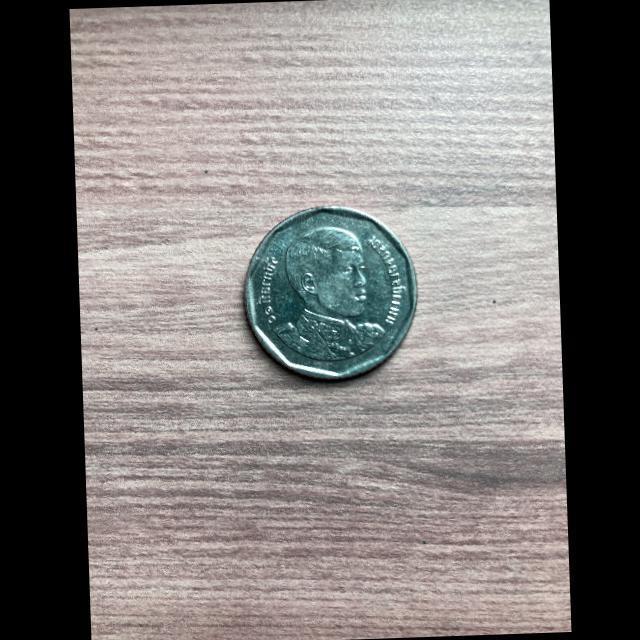5 Bath: (239, 203, 421, 389)
